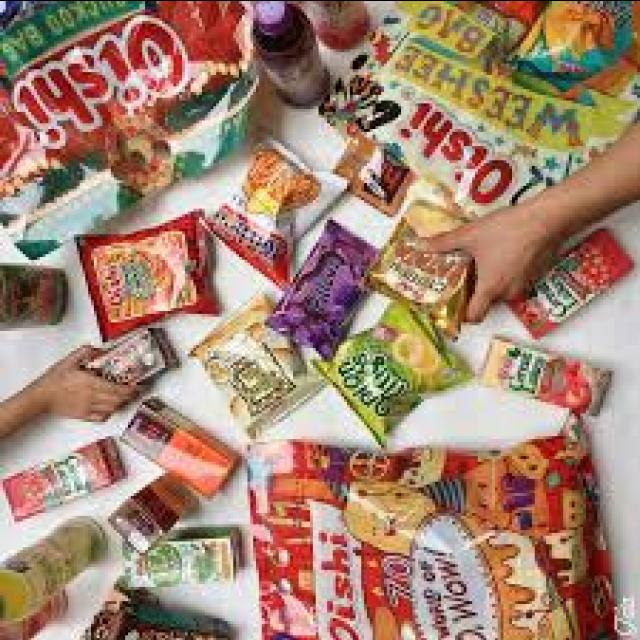junkfood wrapper: (316, 300, 472, 442), (205, 138, 347, 288), (190, 294, 322, 436), (76, 210, 218, 340), (268, 219, 377, 359), (368, 200, 472, 335)
